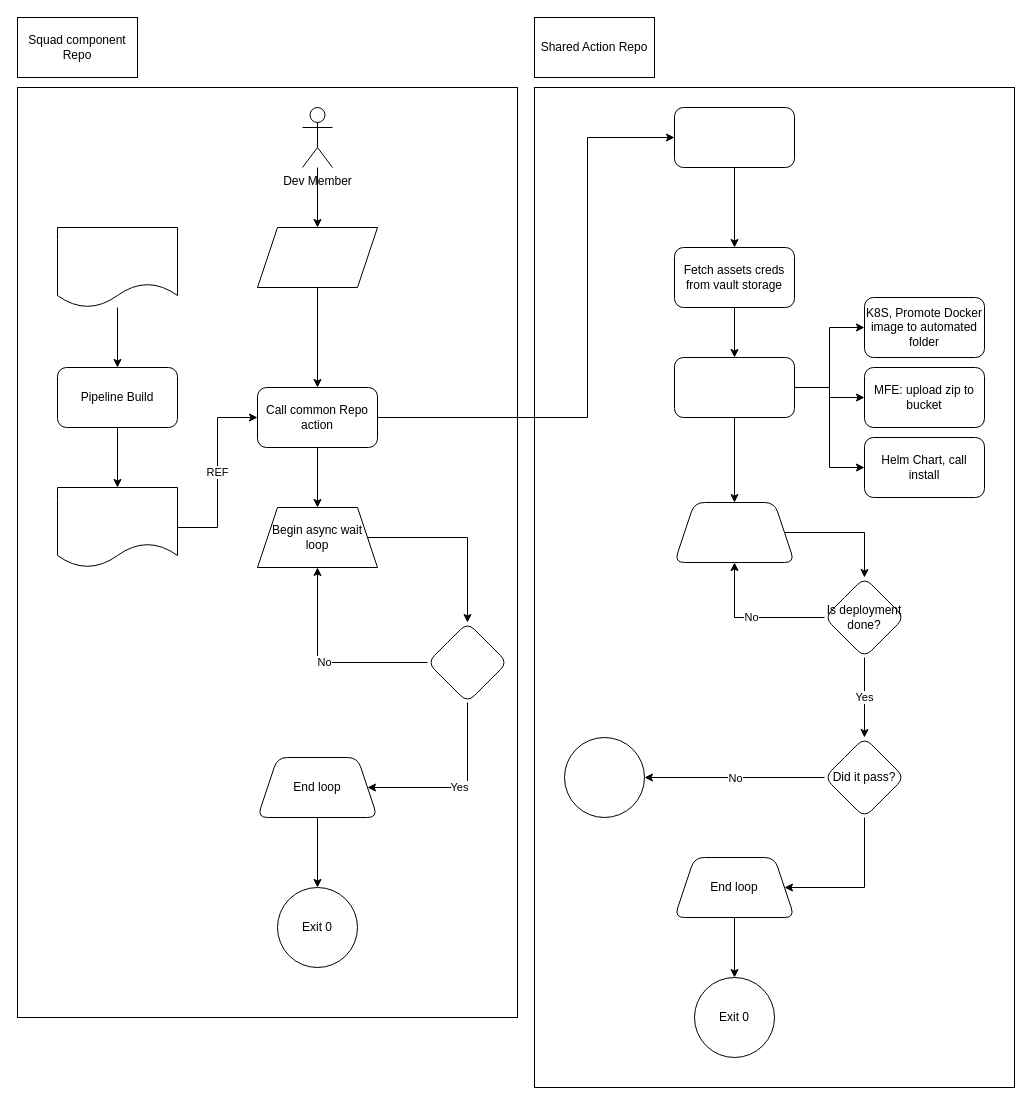
Image size: 1032x1105. Some labels were removed from this diagram. The shapes that lost their labels are listed below. From the top down, each one's centre as x and y in pixels, then its label:
At (x=734, y=137): "Common action called".
At (x=117, y=267): "Branch/tag/*".
At (x=317, y=257): "Approve release to @ENV".
At (x=734, y=387): "Being deployment method".
At (x=117, y=527): "Artifact: Docker image: v0.0.1-1000".
At (x=734, y=532): "Wait for deployment to complete".
At (x=467, y=662): "Is the run done?".
At (x=604, y=777): "Exit 1".
